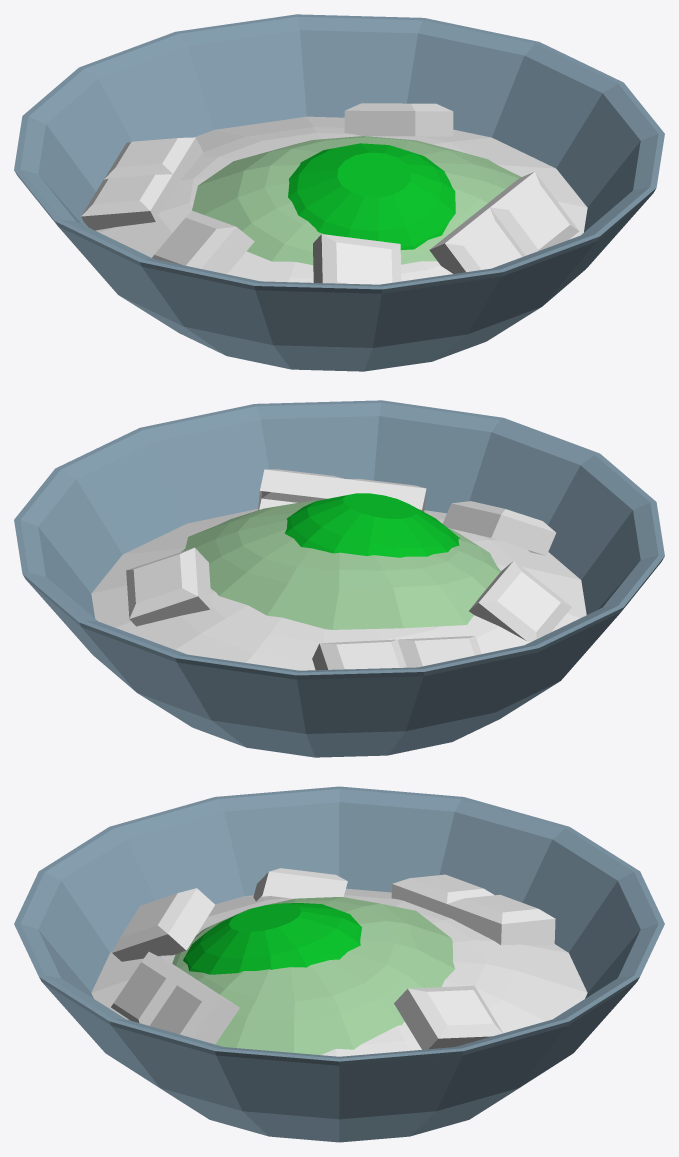
The model's file is BrownieBatter.fbx.
The picture shows the model from 3 angles, top to bottom: view 1: azimuth 30°, elevation 25°; view 2: azimuth 150°, elevation 25°; view 3: azimuth 270°, elevation 25°; orthographic projection.
Visible parts, largest first — view 1: Flour, Chocolate, Egg; view 2: Flour, Chocolate, Egg; view 3: Flour, Chocolate, Egg.
Part boxes in pixels (<box>): Flour: <box>14,14,664,371</box>; Chocolate: <box>81,103,587,284</box>; Egg: <box>192,136,521,265</box>; Flour: <box>14,400,664,757</box>; Chocolate: <box>91,469,586,670</box>; Egg: <box>181,493,500,629</box>; Flour: <box>14,786,664,1142</box>; Chocolate: <box>91,868,587,1056</box>; Egg: <box>172,897,454,1054</box>.
Bounding box in the file's own units: 43.03 × 11.15 × 43.03.
